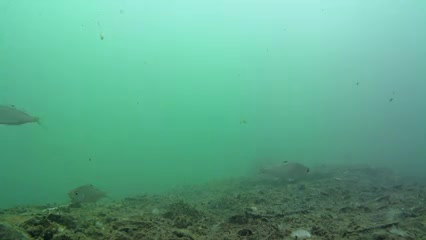smallfish: (61, 175, 108, 209), (265, 156, 316, 184)
